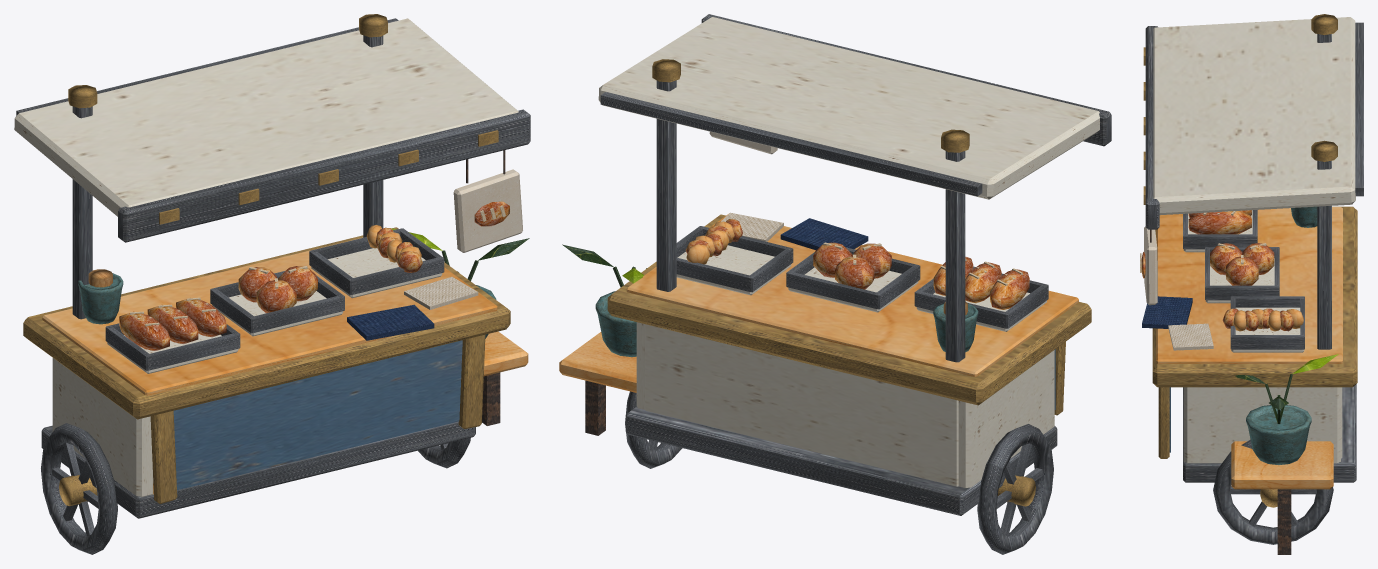
Rendered from endfield_pbr_anime_bread_cart.glb.
3 renders of one model, left to right at view 1: azimuth 30°, elevation 25°; view 2: azimuth 150°, elevation 25°; view 3: azimuth 270°, elevation 25°, orthographic. The views are drawn at different scales.
Parts seen in each view (by area): view 1: bread_cart; view 2: bread_cart; view 3: bread_cart.
Boxes of the visible parts, x1,y1,x2,y2 form: bread_cart: (14, 14, 530, 554); bread_cart: (559, 14, 1111, 554); bread_cart: (1140, 14, 1363, 554).
Size of the model in its own units: 2.71 by 2.32 by 1.22.
Materials: 3 (3 with a texture image).
